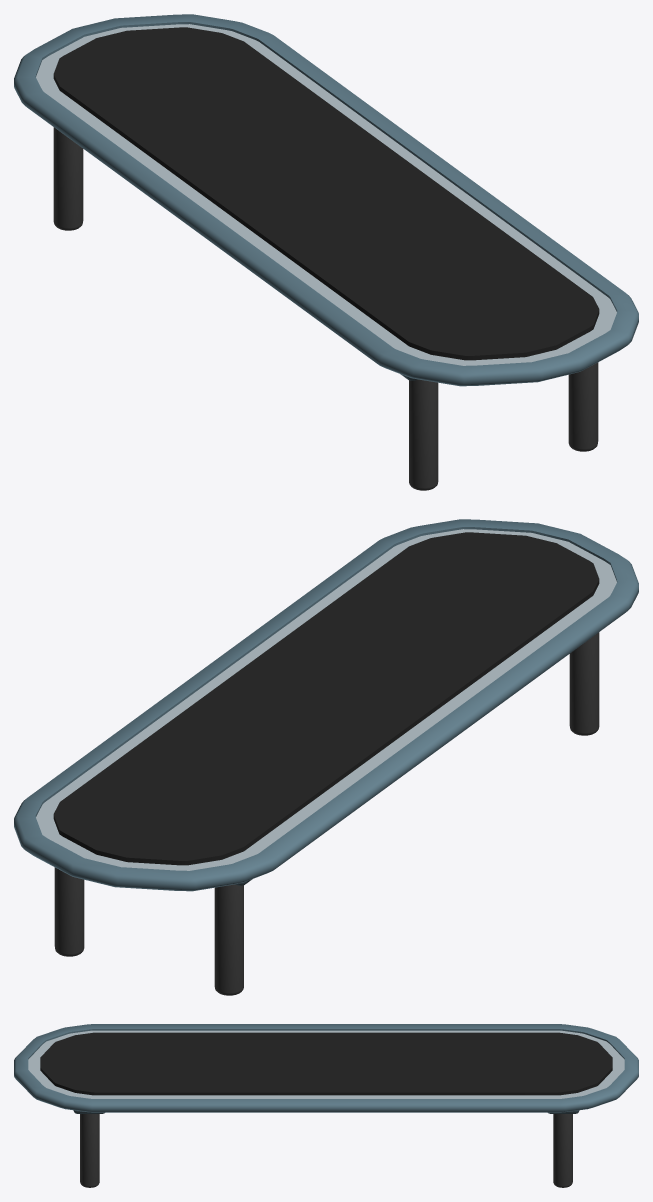
Rendered from Meeting Desk02.fbx.
The picture shows the model from 3 angles, top to bottom: view 1: azimuth 30°, elevation 25°; view 2: azimuth 150°, elevation 25°; view 3: azimuth 270°, elevation 25°; orthographic projection. The views are drawn at different scales.
Visible parts, largest first — view 1: Meeting Desk02; view 2: Meeting Desk02; view 3: Meeting Desk02.
Boxes of the visible parts, x1,y1,x2,y2 form: Meeting Desk02: (14,14,638,490); Meeting Desk02: (14,519,638,995); Meeting Desk02: (14,1024,638,1187).
Bounding box in the file's own units: 1.05 × 3.37 × 0.5738.
